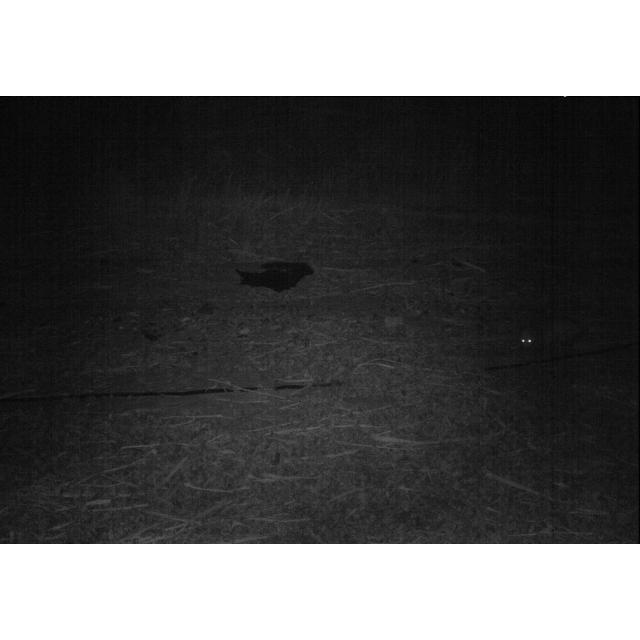animals: (518, 316, 582, 356)
